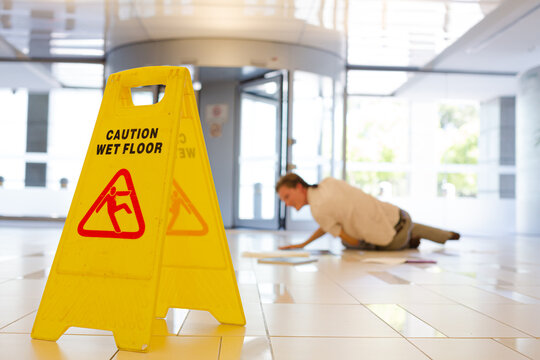wet caution sign: (45, 76, 266, 349)
